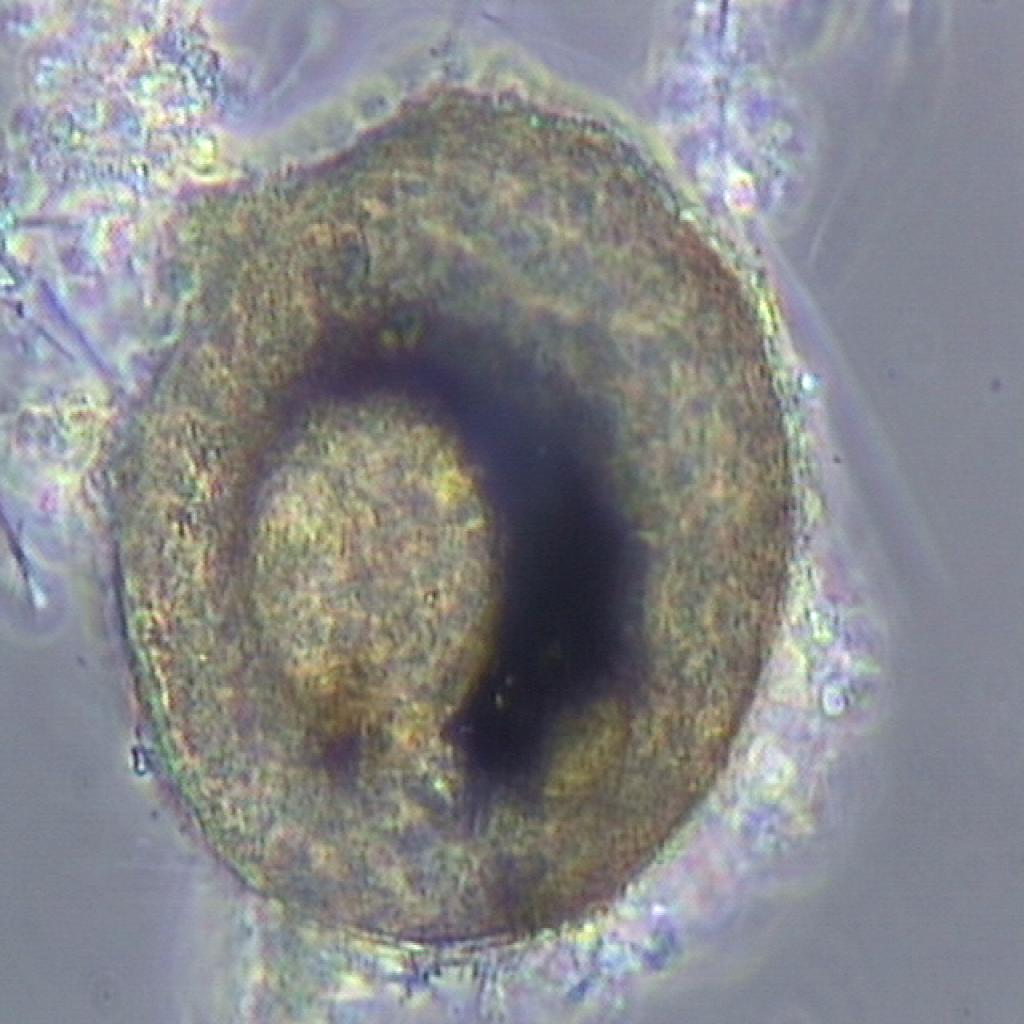Arcella: (122, 46, 804, 974)
